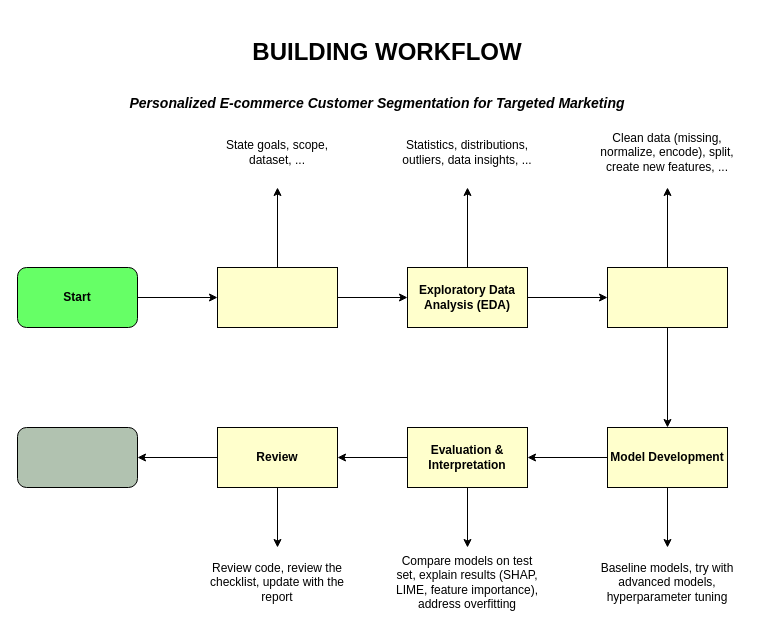
This 760x634 diagram has some shape labels left out. Here are the shapes that lost their labels. From the top down, the centre of each, then its label:
At pixel 277 297: "Initialization".
At pixel 667 297: "Preprocessing & Feature Engineering".
At pixel 77 457: "End".
